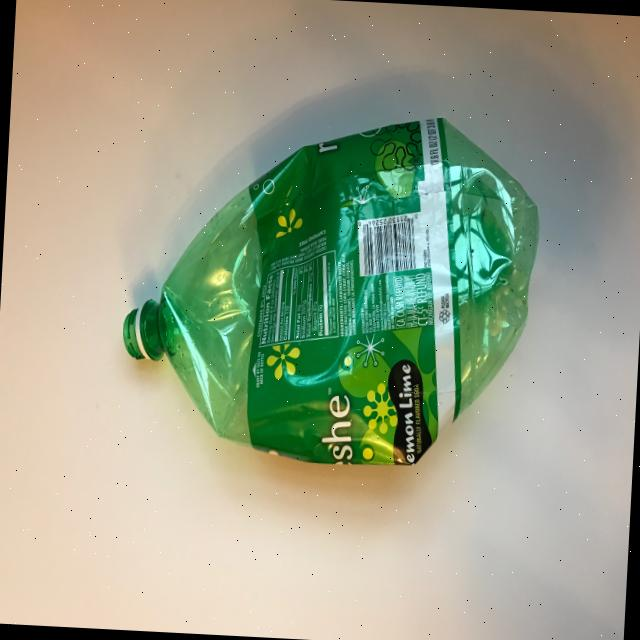plastic: (116, 100, 545, 476)
